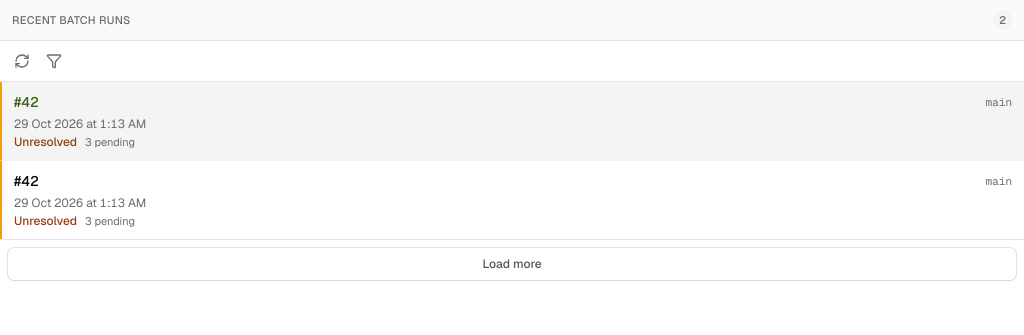
Test case: BuildsListPanel › load-more appends the next page and dedupes overlapping ids
Check: the link with test id "build-list-item-b1" is shown, box [0,82,1023,161]
Check: the link with test id "build-list-item-b2" is shown, box [0,161,1023,239]
Click the button "Load more" at (512, 264), box [8,248,1016,280]
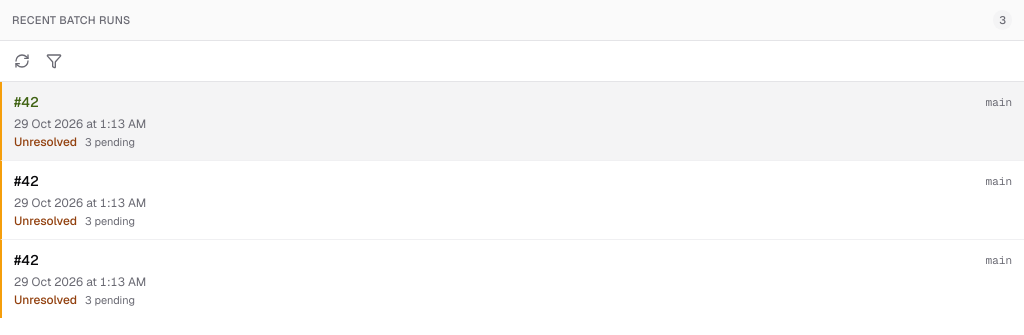
Check: the link with test id "build-list-item-b1" is shown, box [0,82,1023,161]
Check: the link with test id "build-list-item-b3" is shown, box [0,240,1023,318]
Check: the number of links with test id "build-list-item-b2" is 1, box [0,161,1023,240]
